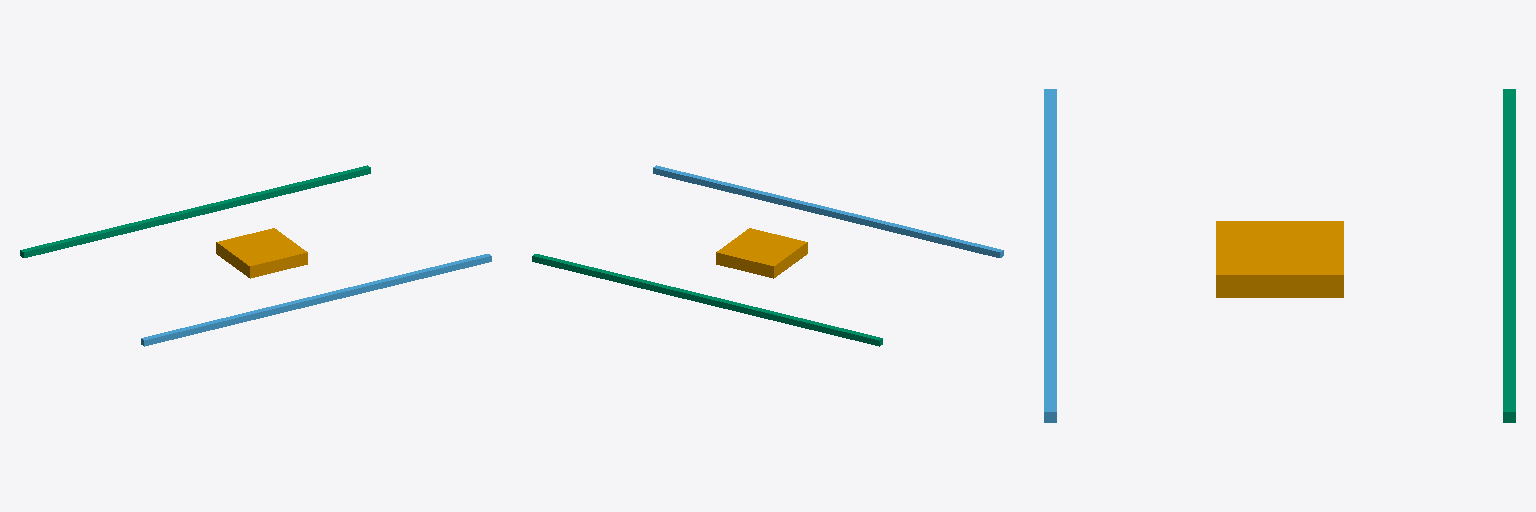
The robot description file, URDF, robot "barco_obs":
<?xml version="1.0" ?>
<!-- =================================================================================== -->
<!-- |    This document was autogenerated by xacro from barco_obs.xacro                | -->
<!-- |    EDITING THIS FILE BY HAND IS NOT RECOMMENDED                                 | -->
<!-- =================================================================================== -->
<!-- STL-version of the URDF, used with gazebo for dynamic simulation  -->
<robot name="barco_obs" xmlns:xacro="http://www.ros.org/wiki/xacro">
  <link name="base_link">
    <collision>
      <origin rpy="1.57079632679 0 0"/>
      <geometry>
        <box size="5 1 5"/>
      </geometry>
    </collision>
    <visual>
      <origin rpy="1.57079632679 0 0"/>
      <geometry>
        <box size="5 1 5"/>
      </geometry>
      <material name="blue"/>
    </visual>
    <inertial>
      <origin rpy="0 0 0" xyz="0 0 0"/>
      <mass value="10"/>
      <inertia ixx="3" ixy="0.0" ixz="0.0" iyy="1" iyz="0.0" izz="3"/>
    </inertial>
    <buoyancy>
      <compensation>1.2</compensation>
      <origin xyz="0 0 0"/>
      <limit radius="0.2"/>
      <damping rpy="20 50 50" xyz="20 50 50"/>
    </buoyancy>
  </link>
  <link name="side_link1">
    <collision>
      <origin rpy="1.57079632679 0 0"/>
      <geometry>
        <box size="30 0.5 0.5"/>
      </geometry>
    </collision>
    <visual>
      <origin rpy="1.57079632679 0 0" xyz="0 -9 0"/>
      <geometry>
        <box size="30 0.5 0.5"/>
      </geometry>
      <material name="blue"/>
    </visual>
    <inertial>
      <origin rpy="0 0 0" xyz="0 -9 0"/>
      <mass value="10"/>
      <inertia ixx="3" ixy="0.0" ixz="0.0" iyy="1" iyz="0.0" izz="3"/>
    </inertial>
    <buoyancy>
      <compensation>1.2</compensation>
      <origin xyz="0 0 0"/>
      <limit radius="0.2"/>
      <damping rpy="20 50 50" xyz="20 50 50"/>
    </buoyancy>
  </link>
  <link name="side_link2">
    <collision>
      <origin rpy="1.57079632679 0 0"/>
      <geometry>
        <box size="30 0.5 0.5"/>
      </geometry>
    </collision>
    <visual>
      <origin rpy="1.57079632679 0 0" xyz="0 9 0"/>
      <geometry>
        <box size="30 0.5 0.5"/>
      </geometry>
      <material name="blue"/>
    </visual>
    <inertial>
      <origin rpy="0 0 0" xyz="0 9 0"/>
      <mass value="10"/>
      <inertia ixx="3" ixy="0.0" ixz="0.0" iyy="1" iyz="0.0" izz="3"/>
    </inertial>
    <buoyancy>
      <compensation>1.2</compensation>
      <origin xyz="0 0 0"/>
      <limit radius="0.2"/>
      <damping rpy="20 50 50" xyz="20 50 50"/>
    </buoyancy>
  </link>
  <joint name="side_joint1" type="revolute">
    <parent link="base_link"/>
    <child link="side_link1"/>
    <origin rpy="0 0 0" xyz="-0.53 0 -0.1"/>
    <dynamics damping="1.0"/>
    <axis xyz="0 0 1"/>
    <limit effort="50" lower="-1.0471975512" upper="1.0471975512" velocity="5"/>
  </joint>
  <joint name="side_joint2" type="revolute">
    <parent link="base_link"/>
    <child link="side_link2"/>
    <origin rpy="0 0 0" xyz="-0.53 0 -0.1"/>
    <dynamics damping="1.0"/>
    <axis xyz="0 0 1"/>
    <limit effort="50" lower="-1.0471975512" upper="1.0471975512" velocity="5"/>
  </joint>
</robot>

--- What the picture shows (computed from the rendered views, not written in the file) ---
The picture shows the robot from 3 angles, left to right: view 1: azimuth 30°, elevation 25°; view 2: azimuth 150°, elevation 25°; view 3: azimuth 270°, elevation 25°; orthographic projection.
Model barco_obs with 3 links and 2 joints (2 revolute), rooted at base_link, posed every joint at zero.
Visible links, largest first — view 1: side_link1, side_link2, base_link; view 2: side_link1, side_link2, base_link; view 3: base_link, side_link1, side_link2.
Link boxes in pixels (box(x1,y1,x2,y2)): side_link1: box(141, 254, 491, 346); side_link2: box(20, 165, 370, 257); base_link: box(216, 228, 307, 278); side_link1: box(653, 165, 1003, 257); side_link2: box(532, 254, 882, 346); base_link: box(716, 228, 807, 278); base_link: box(1216, 221, 1343, 297); side_link1: box(1044, 89, 1056, 422); side_link2: box(1503, 89, 1515, 422).
Size in the robot's own frame: 30 by 18.5 by 1 metres.
Geometry: primitives only (box / cylinder / sphere), no mesh files.
